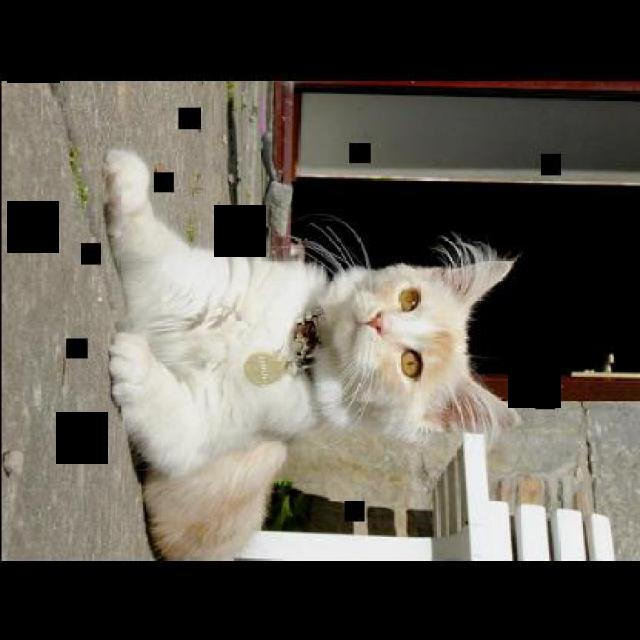unauthorized: (100, 146, 522, 559)
